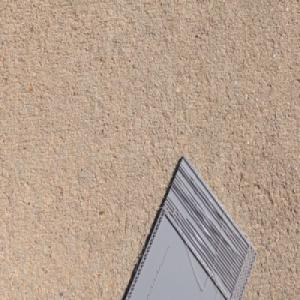PlasticPart: (122, 155, 258, 300)
